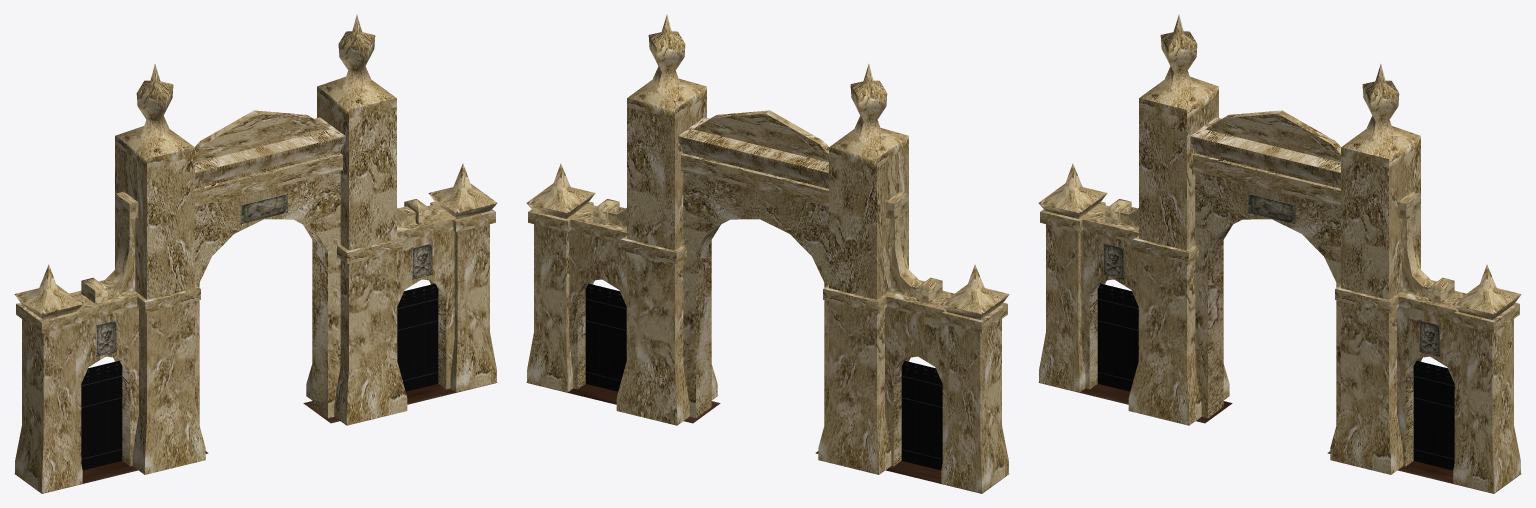
The model's file is pir_m_prp_cem_gate_cave.fbx.
3 views of the same model, side by side, from view 1: azimuth 30°, elevation 25°; view 2: azimuth 150°, elevation 25°; view 3: azimuth 330°, elevation 25° (orthographic).
Visible parts, largest first — view 1: wall_arches, column_left_tall, column_right_tall, column_left_short, column_right_short, bars_left, bars_right, columnCap_left_tall, columnCap_right_tall, trim_center, trimCap_center, trim_left (+10 smaller); view 2: wall_arches, column_left_tall, column_right_tall, column_left_short, column_right_short, bars_left, bars_right, columnCap_left_tall, columnCap_right_tall, trim_center, trimCap_center, trim_left (+7 smaller); view 3: wall_arches, column_right_tall, column_left_tall, column_right_short, column_left_short, bars_right, bars_left, columnCap_right_tall, columnCap_left_tall, trim_center, trimCap_center, trim_right (+10 smaller).
Part boxes in pixels (x1,y1,x2,y2): wall_arches: (75,150,454,466); column_left_tall: (115,145,205,474); column_right_tall: (306,96,407,425); column_left_short: (15,319,82,493); column_right_short: (450,224,496,392); bars_left: (81,361,122,470); bars_right: (397,283,438,391); columnCap_left_tall: (115,64,194,167); columnCap_right_tall: (317,14,396,118); trim_center: (195,117,345,185); trimCap_center: (195,110,330,162); trim_left: (16,285,200,333); wall_arches: (569,150,948,466); column_left_tall: (818,145,908,474); column_right_tall: (616,96,717,425); column_left_short: (941,319,1008,493); column_right_short: (527,224,573,392); bars_left: (901,361,942,470); bars_right: (585,283,626,391); columnCap_left_tall: (829,64,908,167); columnCap_right_tall: (627,14,706,118); trim_center: (678,117,828,185); trimCap_center: (693,110,828,162); trim_left: (823,285,1007,333); wall_arches: (1081,150,1460,466); column_right_tall: (1330,145,1420,474); column_left_tall: (1128,96,1229,425); column_right_short: (1453,319,1520,493); column_left_short: (1039,224,1085,392); bars_right: (1413,361,1454,470); bars_left: (1097,283,1138,391); columnCap_right_tall: (1341,64,1420,167); columnCap_left_tall: (1139,14,1218,118); trim_center: (1190,117,1340,185); trimCap_center: (1205,110,1340,162); trim_right: (1335,285,1519,333).
Bounding box in the file's own units: 3012 × 2460 × 461.
Materials: 2 (2 with a texture image).
